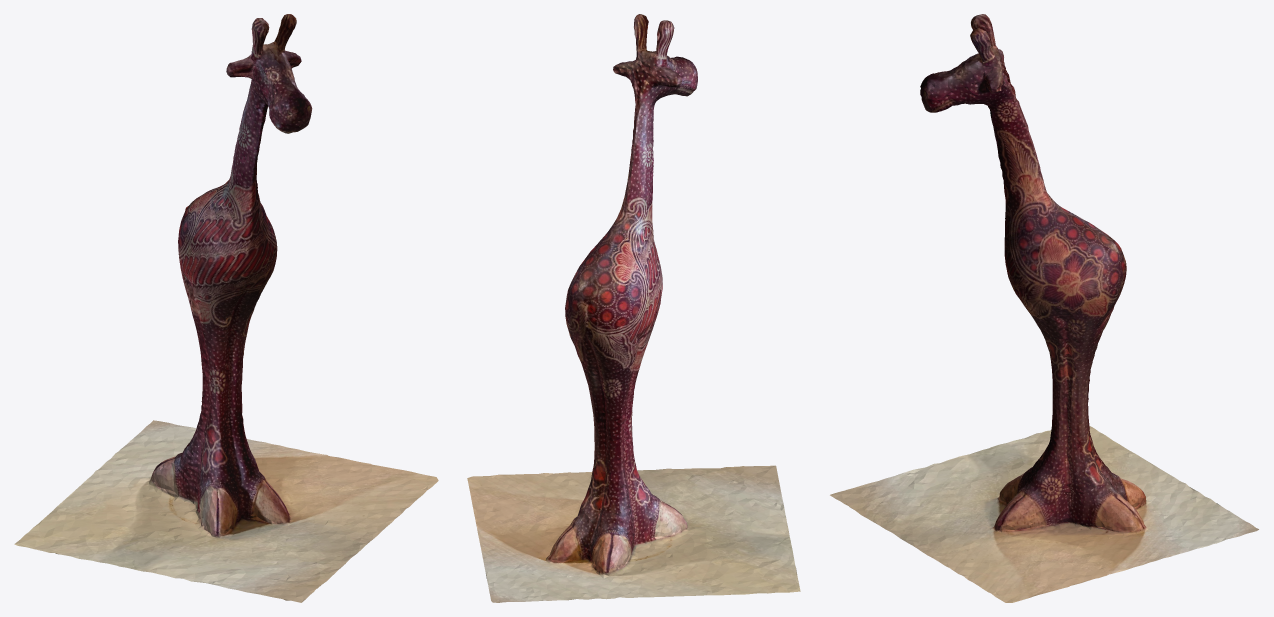
Rendered from red-wooden-batik.glb.
The picture shows the model from 3 angles, left to right: view 1: azimuth 30°, elevation 25°; view 2: azimuth 150°, elevation 25°; view 3: azimuth 270°, elevation 25°; orthographic projection. The views are drawn at different scales.
Size of the model in its own units: 0.265 by 0.3393 by 0.265.
Materials: 1 (1 with a texture image).
